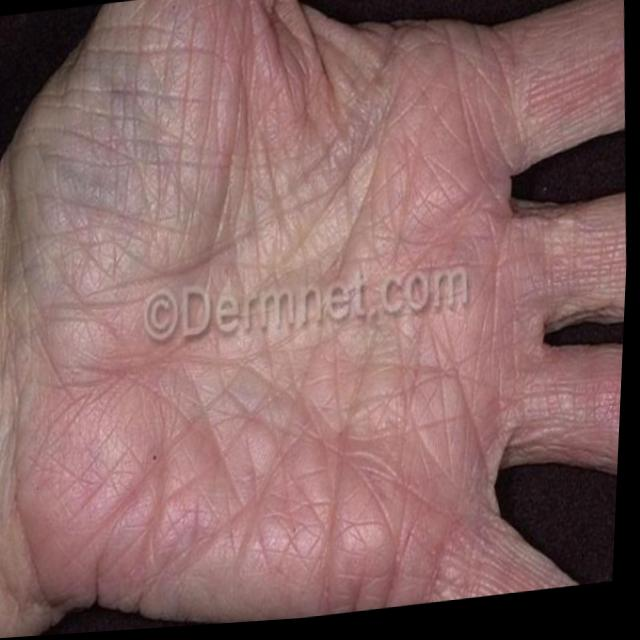Eczema: (57, 9, 555, 594)
